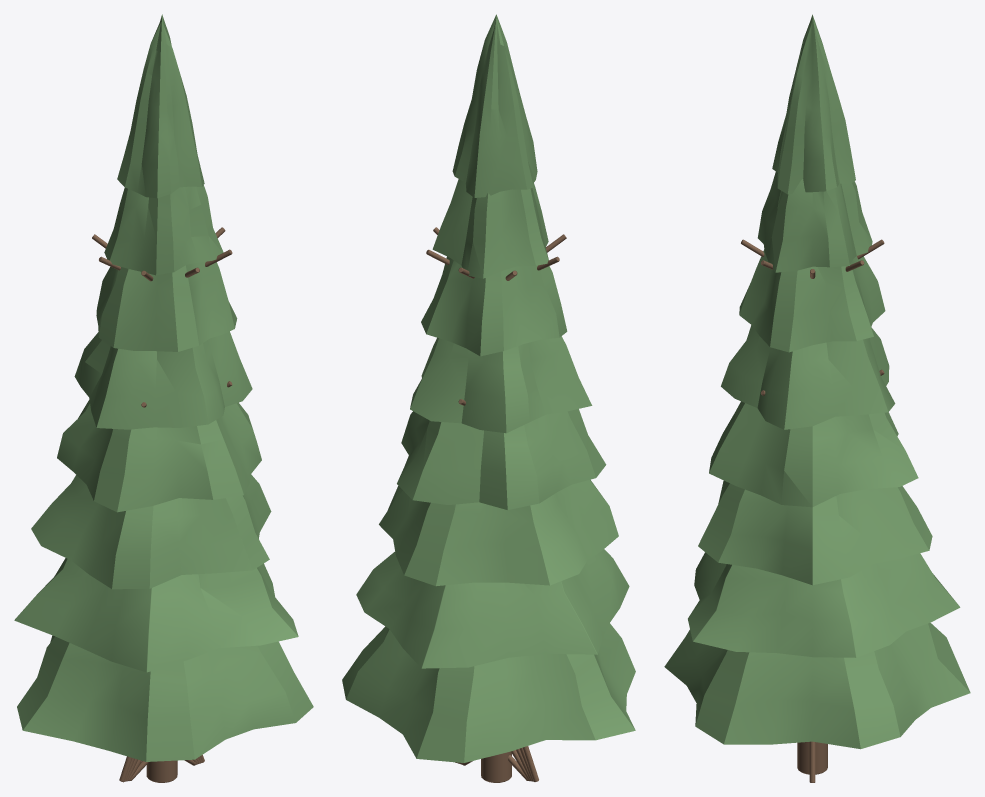
File: tree_conifer_02.glb
3 views of the same model, side by side, from view 1: azimuth 30°, elevation 25°; view 2: azimuth 150°, elevation 25°; view 3: azimuth 270°, elevation 25° (orthographic).
Parts seen in each view (by area): view 1: Canopy_Mesh, Trunk_Mesh; view 2: Canopy_Mesh, Trunk_Mesh; view 3: Canopy_Mesh, Trunk_Mesh.
Boxes of the visible parts, bbox=[...] form: Canopy_Mesh: bbox=[14, 14, 313, 761]; Trunk_Mesh: bbox=[92, 227, 232, 782]; Canopy_Mesh: bbox=[342, 14, 635, 762]; Trunk_Mesh: bbox=[426, 227, 566, 782]; Canopy_Mesh: bbox=[664, 14, 970, 749]; Trunk_Mesh: bbox=[741, 239, 884, 782].
Bounding box in the file's own units: 6.1 × 16.51 × 6.07.
